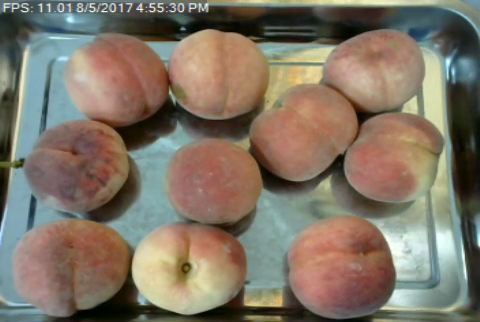Peach: (12, 217, 129, 316), (287, 215, 396, 319), (248, 81, 359, 181), (133, 222, 247, 316), (24, 118, 132, 212), (65, 31, 169, 126), (319, 27, 426, 116), (171, 29, 274, 121), (342, 112, 446, 202), (165, 137, 262, 226)
